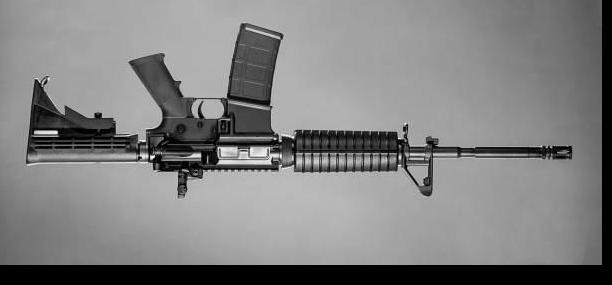larga: (25, 21, 574, 201)
